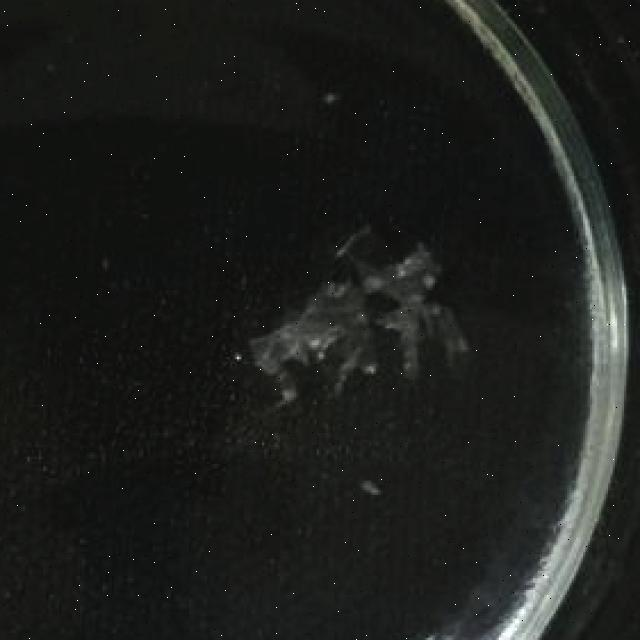Microplastic: (246, 228, 490, 416)
